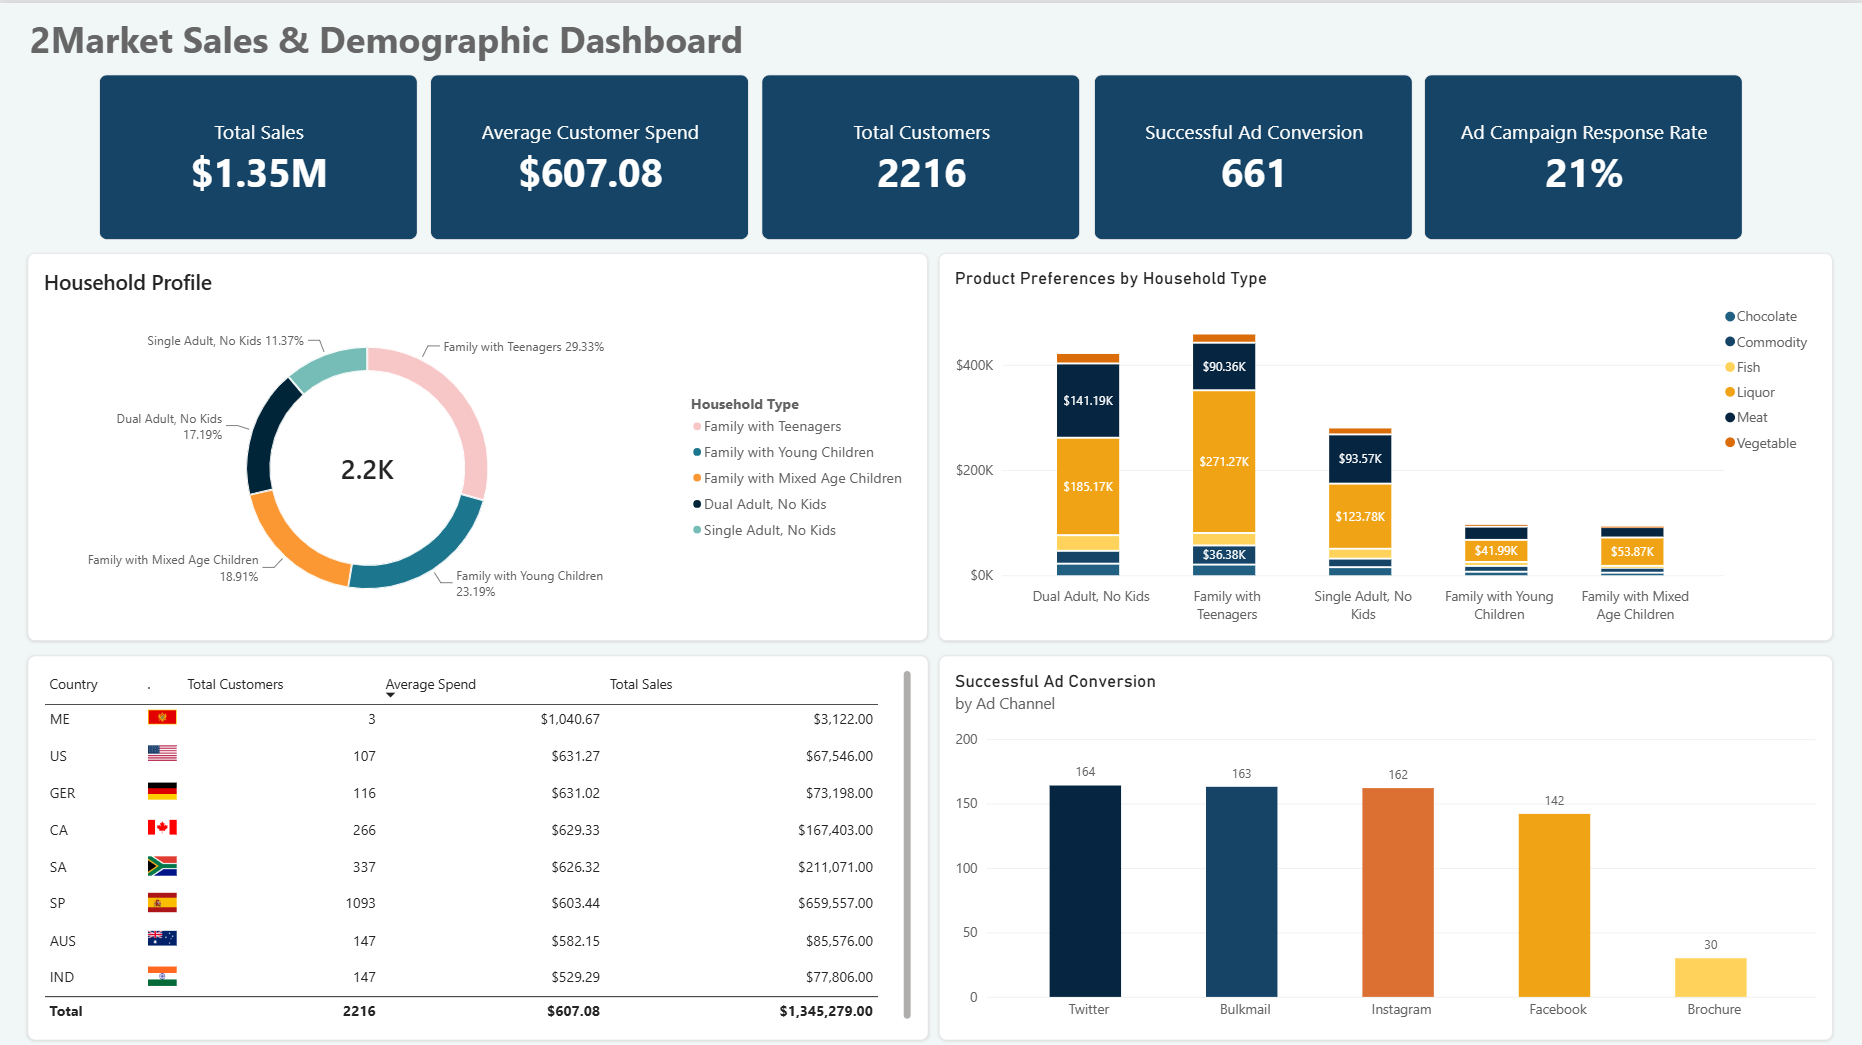

The dashboard page shown, as its layout file describes it:
{"tool":"powerbi","page":{"name":"Page 1","canvas":[1920,1080],"ordinal":0},"visuals":[{"type":"cardVisual","fields":{"Data":["md_clean.Total Sales"]},"box":[102,73.4,329.6,171.4],"z":0},{"type":"textbox","box":[31.4,11.4,800,61.1],"z":1000},{"type":"cardVisual","fields":{"Data":["md_clean.Average Spend"]},"box":[443.4,73.4,329.6,171.4],"z":2000},{"type":"cardVisual","fields":{"Data":["md_clean.Total Customers"]},"box":[784.9,73.4,329.6,171.4],"z":3000},{"type":"donutChart","title":"Household Profile","fields":{"Category":["md_clean.household_type"],"Y":["md_clean.Total Customers"]},"box":[28.6,257.1,928,400],"z":4000},{"type":"tableEx","fields":{"Values":["md_clean.country","md_clean.Country Flag Image","md_clean.Total Customers","md_clean.Average Spend","md_clean.Total Sales"]},"box":[28.6,672.9,928.6,397.1],"z":5000},{"type":"columnChart","title":"Product Preferences by Household Type","fields":{"Category":["md_clean.household_type"],"Y":["Sum(md_clean.amt_chocolate)","Sum(md_clean.amt_commodity)","Sum(md_clean.amt_fish)","Sum(md_clean.amt_liquor)","Sum(md_clean.amt_meat)","Sum(md_clean.amt_vegetable)"]},"box":[967.1,257.1,921.4,400],"z":6000},{"type":"clusteredColumnChart","fields":{"Category":["ad_clean.Ad Channel"],"Y":["ad_clean.Successful Ad Conversion"]},"box":[967.1,672.9,921.4,397.1],"z":7000},{"type":"cardVisual","fields":{"Data":["ad_clean.Successful Ad Conversion"]},"box":[1127.7,73.4,329.6,171.4],"z":8000},{"type":"cardVisual","fields":{"Data":["ad_clean.Campaign Response Rate"]},"box":[1467.7,73.4,329.6,171.4],"z":9000}]}

Visuals, with their boxes in screenshot pixels (x1, y1, x2, y2), scaled from the page's 1920x1080 canvas onto the 1862x1045 screenshot:
cardVisual - md_clean.Total Sales: {"left": 99, "top": 71, "right": 419, "bottom": 237}
textbox: {"left": 30, "top": 11, "right": 806, "bottom": 70}
cardVisual - md_clean.Average Spend: {"left": 430, "top": 71, "right": 750, "bottom": 237}
cardVisual - md_clean.Total Customers: {"left": 761, "top": 71, "right": 1081, "bottom": 237}
"Household Profile" donutChart: {"left": 28, "top": 249, "right": 928, "bottom": 636}
tableEx - md_clean.country x md_clean.Country Flag Image: {"left": 28, "top": 651, "right": 928, "bottom": 1035}
"Product Preferences by Household Type" columnChart: {"left": 938, "top": 249, "right": 1831, "bottom": 636}
clusteredColumnChart - ad_clean.Ad Channel x ad_clean.Successful Ad Conversion: {"left": 938, "top": 651, "right": 1831, "bottom": 1035}
cardVisual - ad_clean.Successful Ad Conversion: {"left": 1094, "top": 71, "right": 1413, "bottom": 237}
cardVisual - ad_clean.Campaign Response Rate: {"left": 1423, "top": 71, "right": 1743, "bottom": 237}
